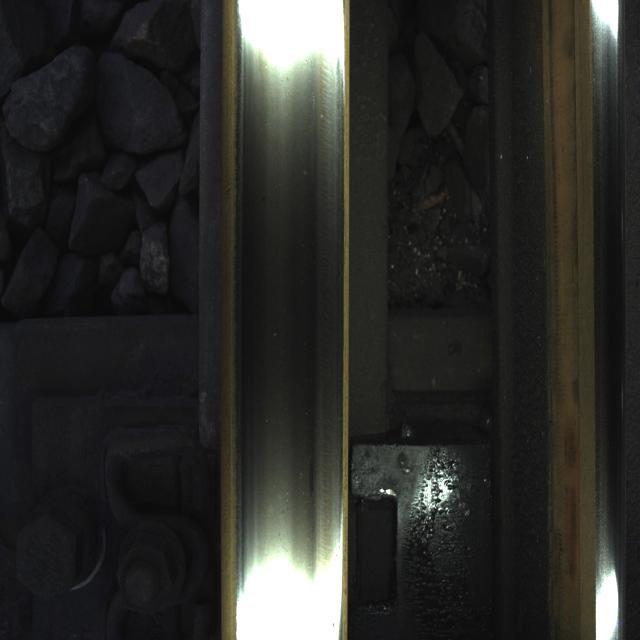break: (232, 10, 342, 631)
